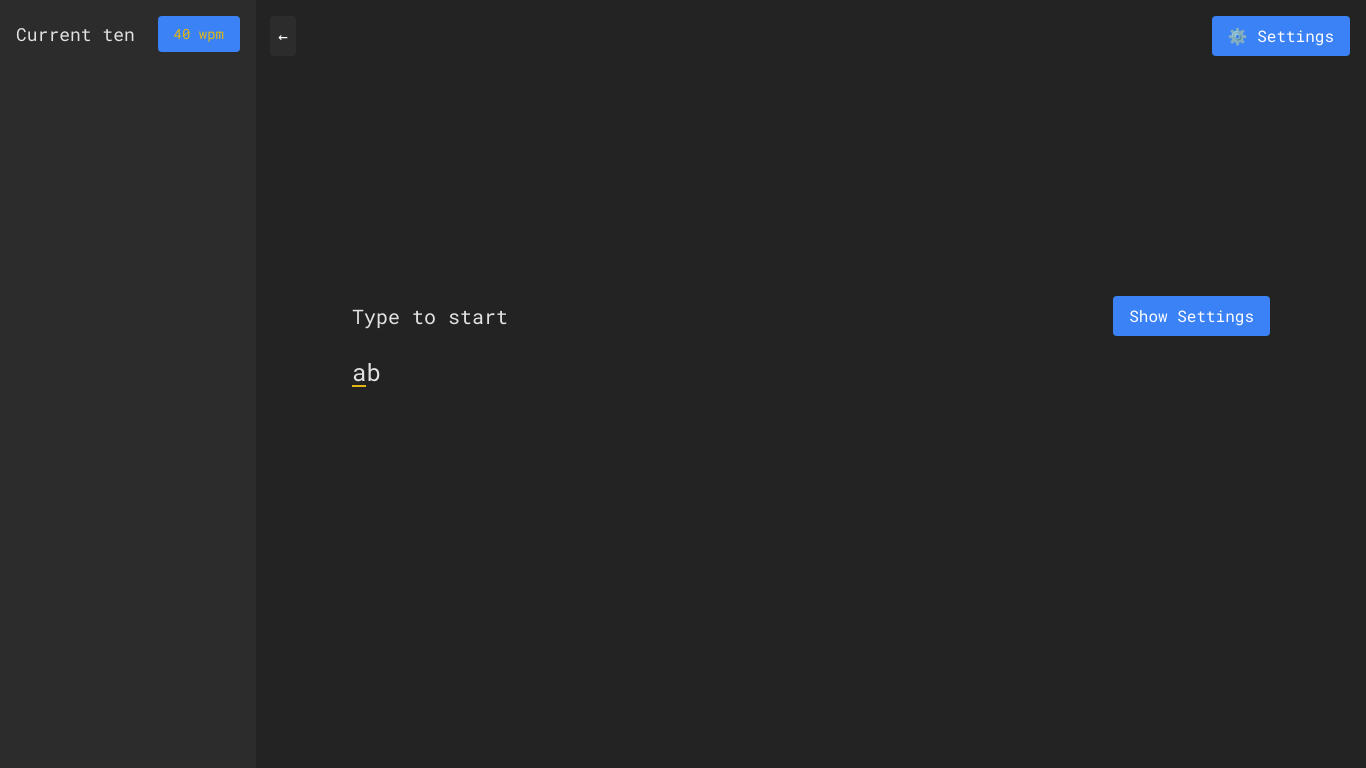
Test: keyboard layout toggle in Settings › checking the box shows the keyboard layout strip
Click the button "⚙️ Settings". click: [1281, 36]
box: top-left (1212, 16), bottom-right (1350, 56)
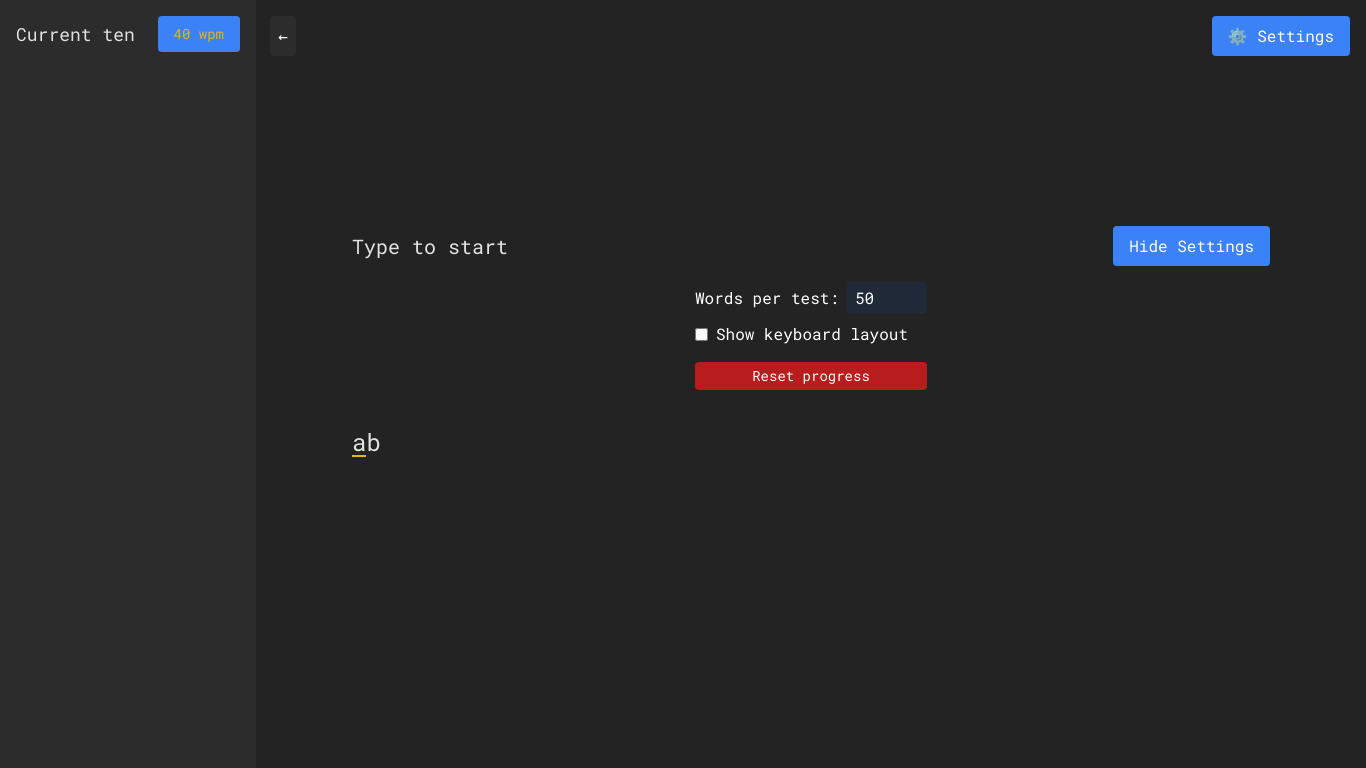
Click the checkbox with test id "show-keyboard-layout". click: [702, 334]
box: top-left (695, 328), bottom-right (708, 340)
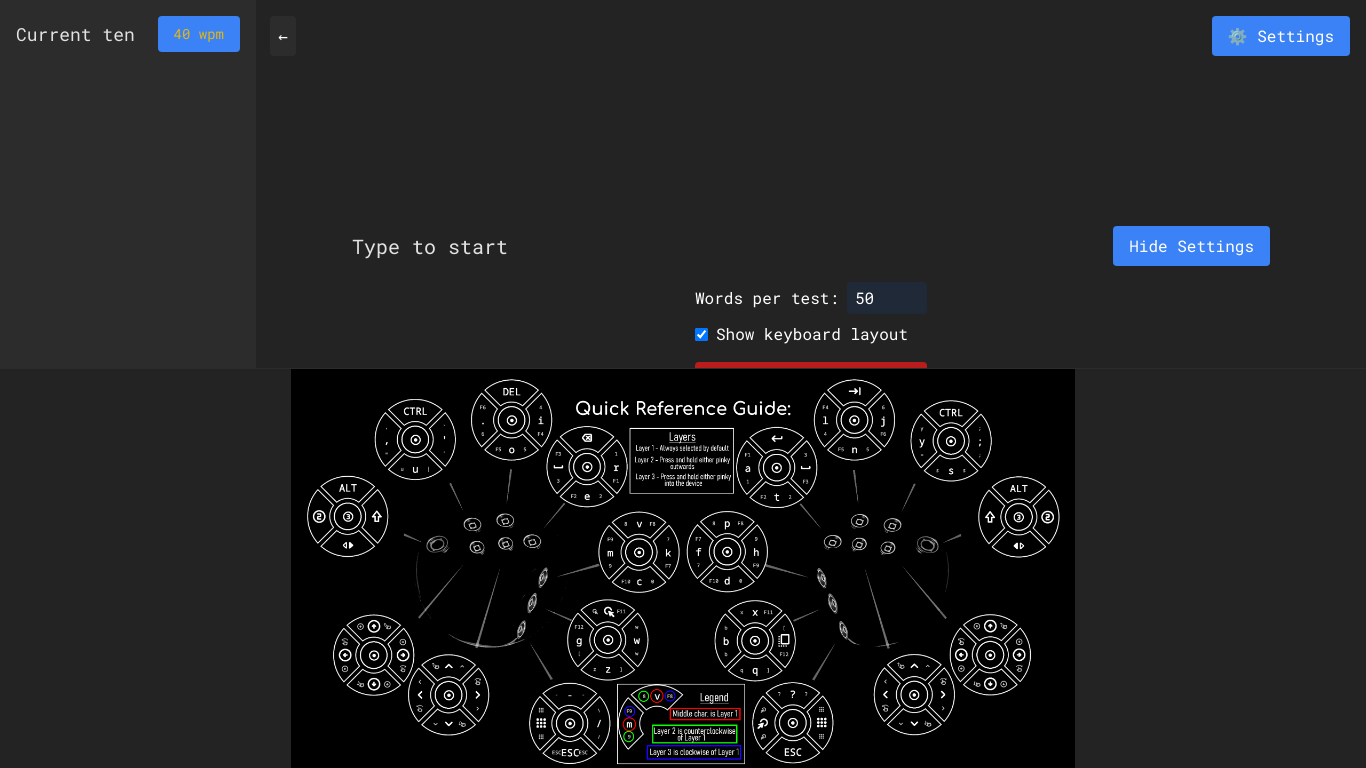
Result: the element with class "keyboard-layout-strip" is shown at top-left (0, 368), bottom-right (1365, 767)
